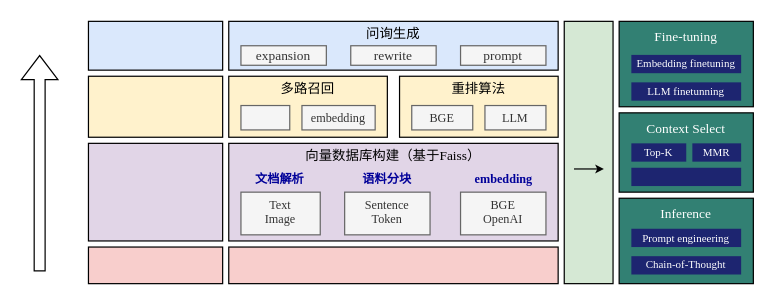
This 775x305 diagram has some shape labels left out. Each missing label, with the centre of its shape:
"BM2.5" goes at point (265, 117).
"Similarity" goes at point (686, 176).
"文件处理 Source" goes at point (155, 265).
"文档读取加载（ PYPDF ）" goes at point (393, 265).
"检索环节 Retrieval" goes at point (155, 106).
"生成 回答" goes at point (588, 152).
"索引构建 Index" goes at point (155, 191).
"问询环节 Query" goes at point (155, 45).
